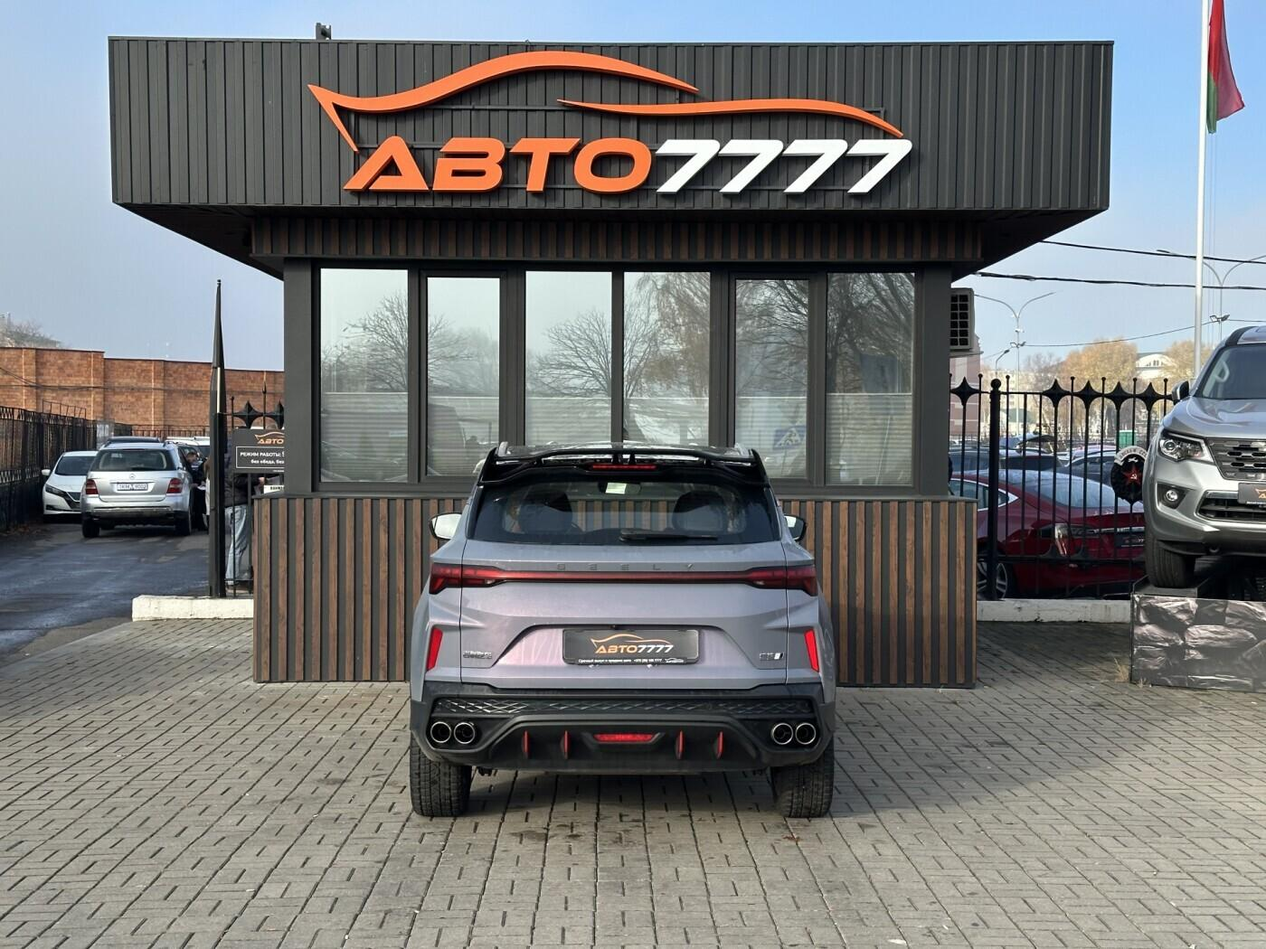Coolray_2019-2023: (403, 439, 842, 820)
